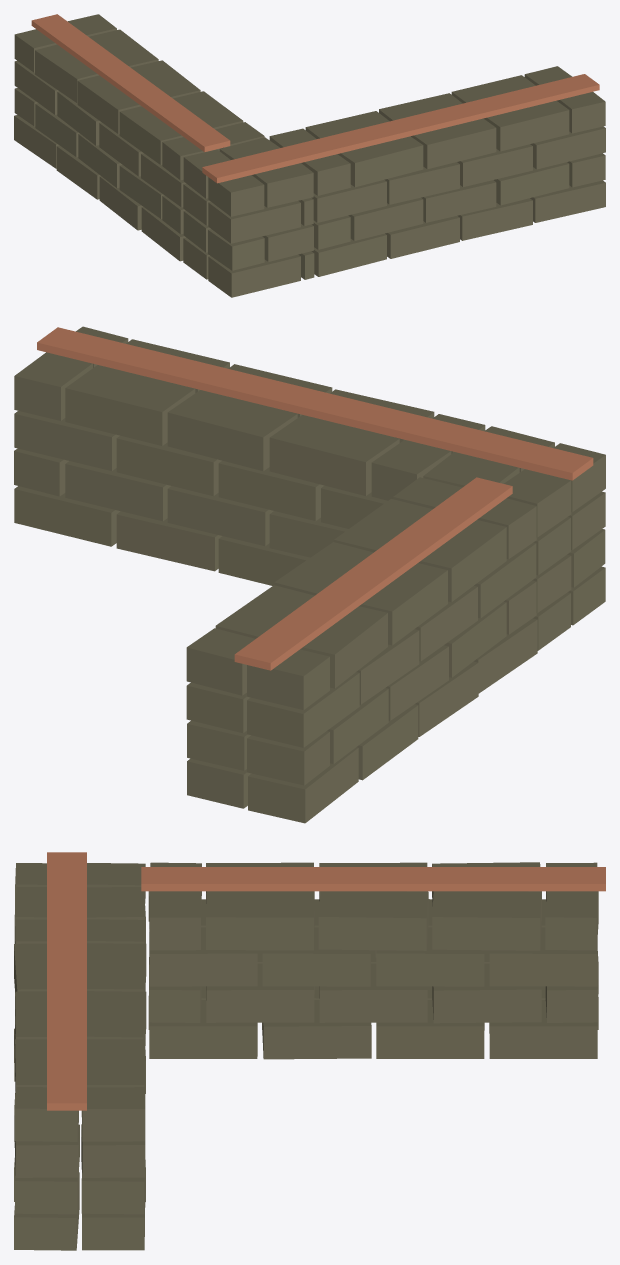
Rendered from SM_SacosEsquina_v3_Tablon_e0_Sano_LOD0.fbx.
3 renders of one model, top to bottom at view 1: azimuth 30°, elevation 25°; view 2: azimuth 150°, elevation 25°; view 3: azimuth 270°, elevation 25°, orthographic. The views are drawn at different scales.
Visible parts, largest first — view 1: SM_sacos_piezas_v12_LOD0; view 2: SM_sacos_piezas_v12_LOD0; view 3: SM_sacos_piezas_v12_LOD0.
Part boxes in pixels (<box>): SM_sacos_piezas_v12_LOD0: <box>14,14,605,297</box>; SM_sacos_piezas_v12_LOD0: <box>14,326,605,823</box>; SM_sacos_piezas_v12_LOD0: <box>14,852,605,1250</box>.
Bounding box in the file's own units: 4.46 × 1.24 × 4.44.
